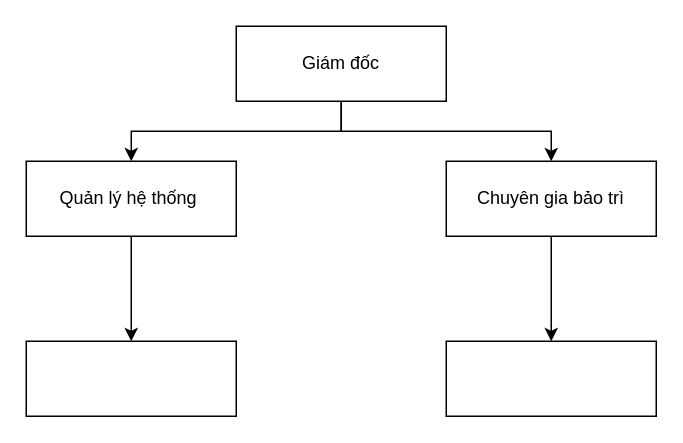
This 683x443 diagram has some shape labels left out. The shapes that lost their labels are listed below. From the top down, each one's centre as x and y in pixels, then its label:
point 130,378: Chuyên gia phần mềm
point 550,378: Chuyên gia phân tích tài chính
